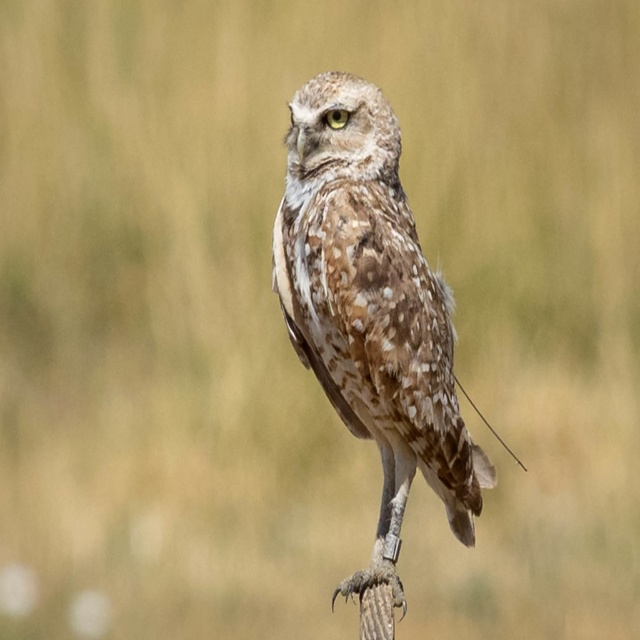Owl: (269, 67, 499, 623)
